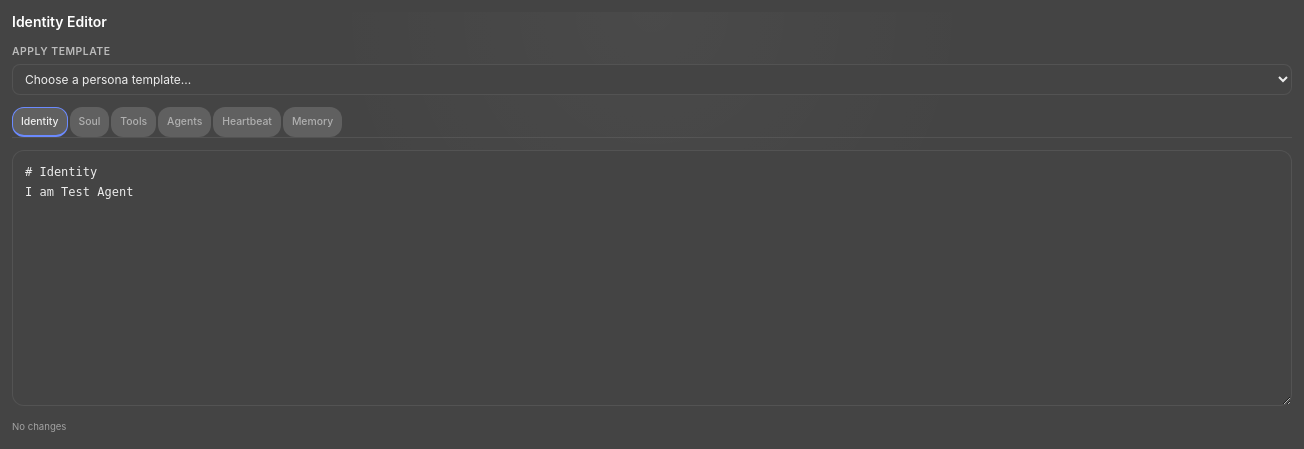
IdentityEditorPanel › switches content when clicking a different tab
The width and height of the screenshot is (1304, 449).
What coordinates should you click on to do the following:
click the tab "Soul"
I would click on:
 (89, 122)
Its box is [70,107,109,137].
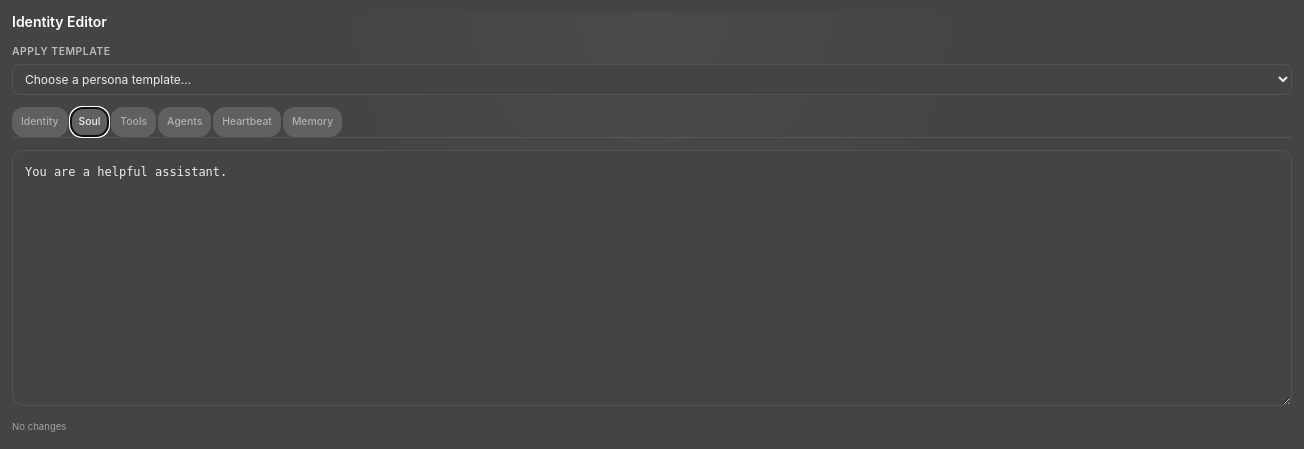
Check: the text box with test id "identity-editor-textarea" holds "You are a helpful assistant.", box [12,150,1292,406]
